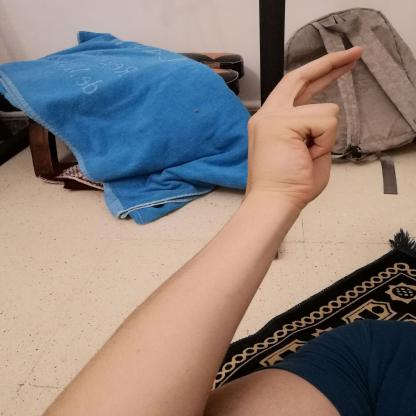ZAY: (233, 40, 380, 210)
